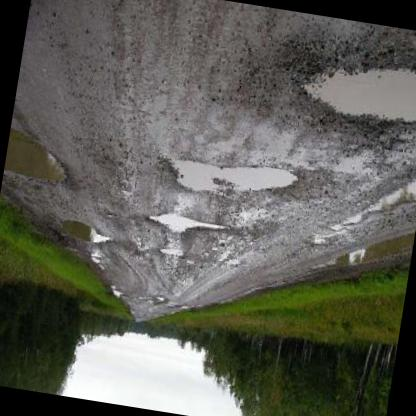pothole: (294, 39, 416, 137), (153, 148, 302, 212), (3, 130, 76, 192), (145, 208, 230, 244), (58, 216, 116, 253), (157, 245, 186, 262), (108, 285, 124, 301)
